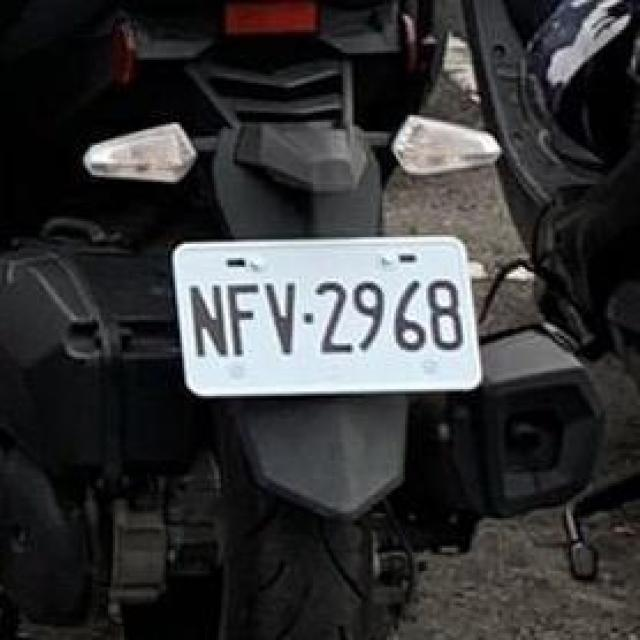W: (166, 221, 486, 405)
